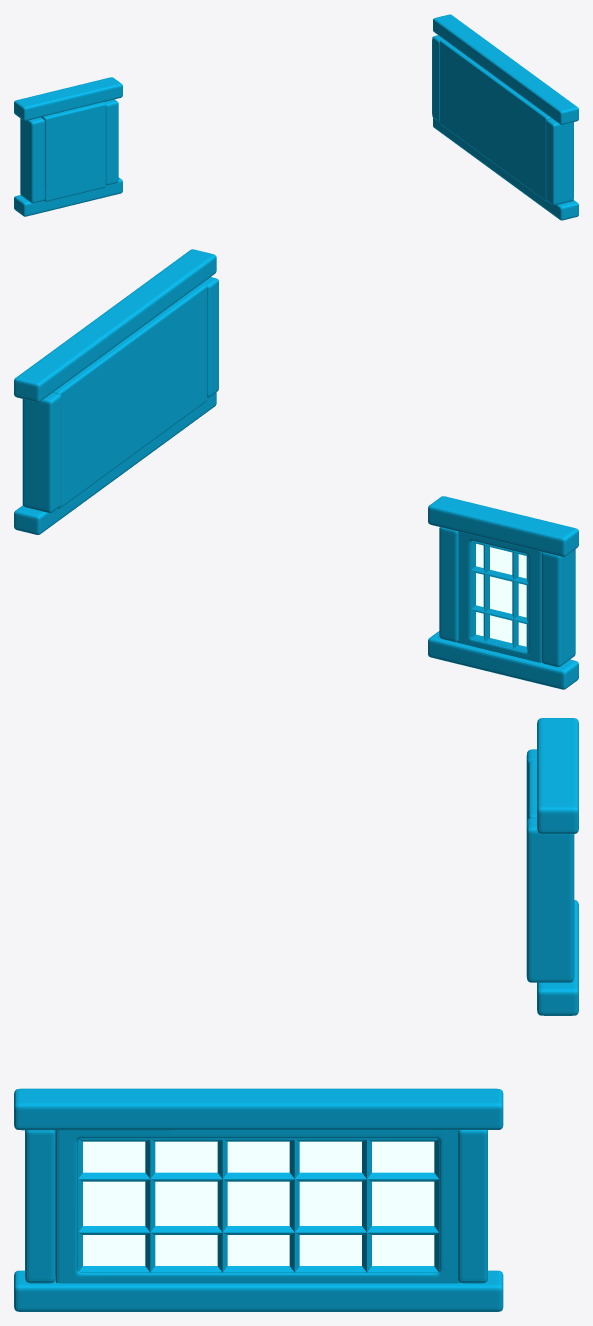
File: SM_Brick_Window_02.fbx
3 views of the same model, one above another, from view 1: azimuth 30°, elevation 25°; view 2: azimuth 150°, elevation 25°; view 3: azimuth 270°, elevation 25° (orthographic). The views are drawn at different scales.
Parts seen in each view (by area): view 1: SM_Brick_Window_02; view 2: SM_Brick_Window_02; view 3: SM_Brick_Window_02.
Part boxes in pixels (x1,y1,x2,y2): SM_Brick_Window_02: (14,14,578,220); SM_Brick_Window_02: (14,249,578,689); SM_Brick_Window_02: (14,718,578,1311).
Bounding box in the file's own units: 4.21 × 1.06 × 2.59.
